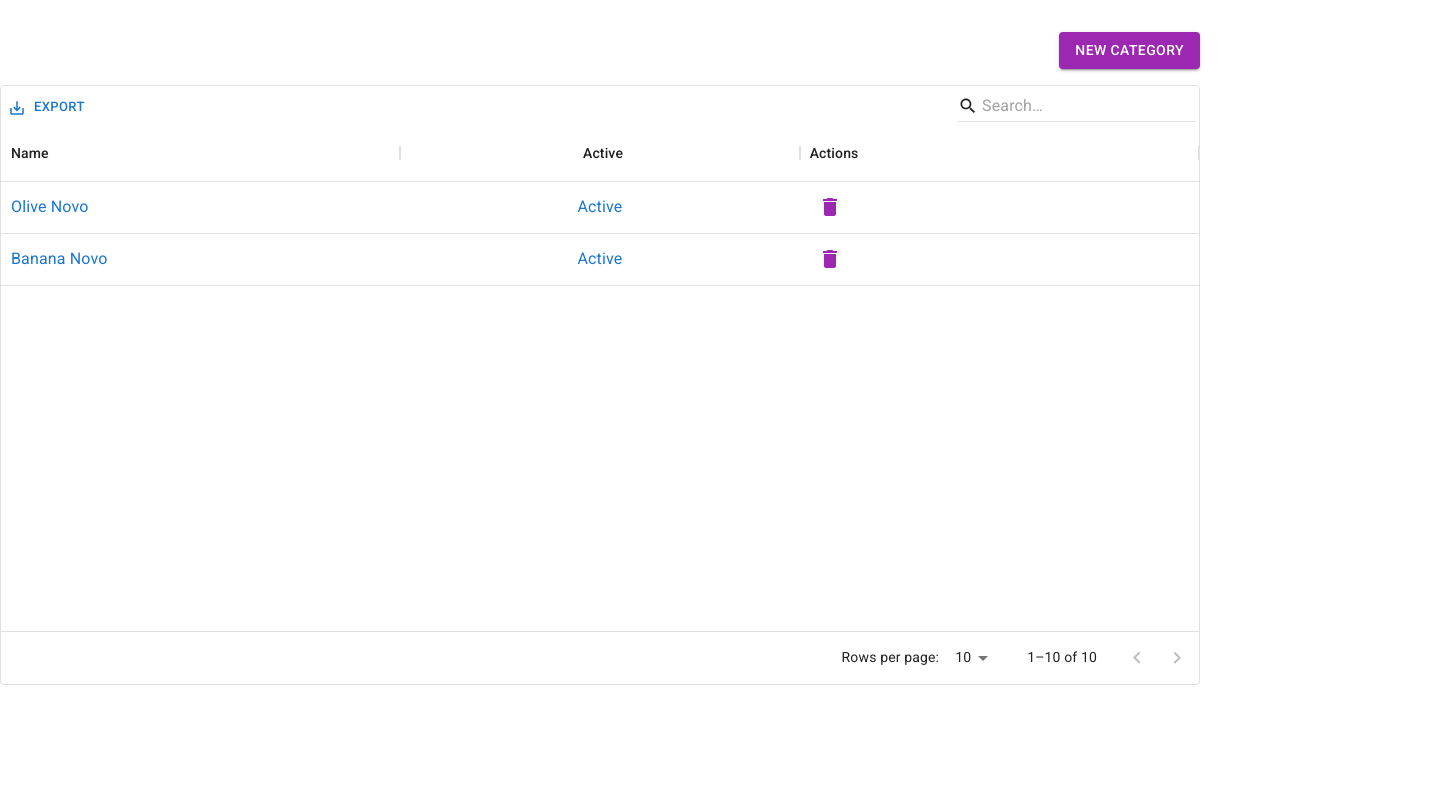
Scenario: ListCategory › should be delete category
Click the button with test id "delete-button" in the row of "Olive Novo": (830, 207) [810,187,850,227]
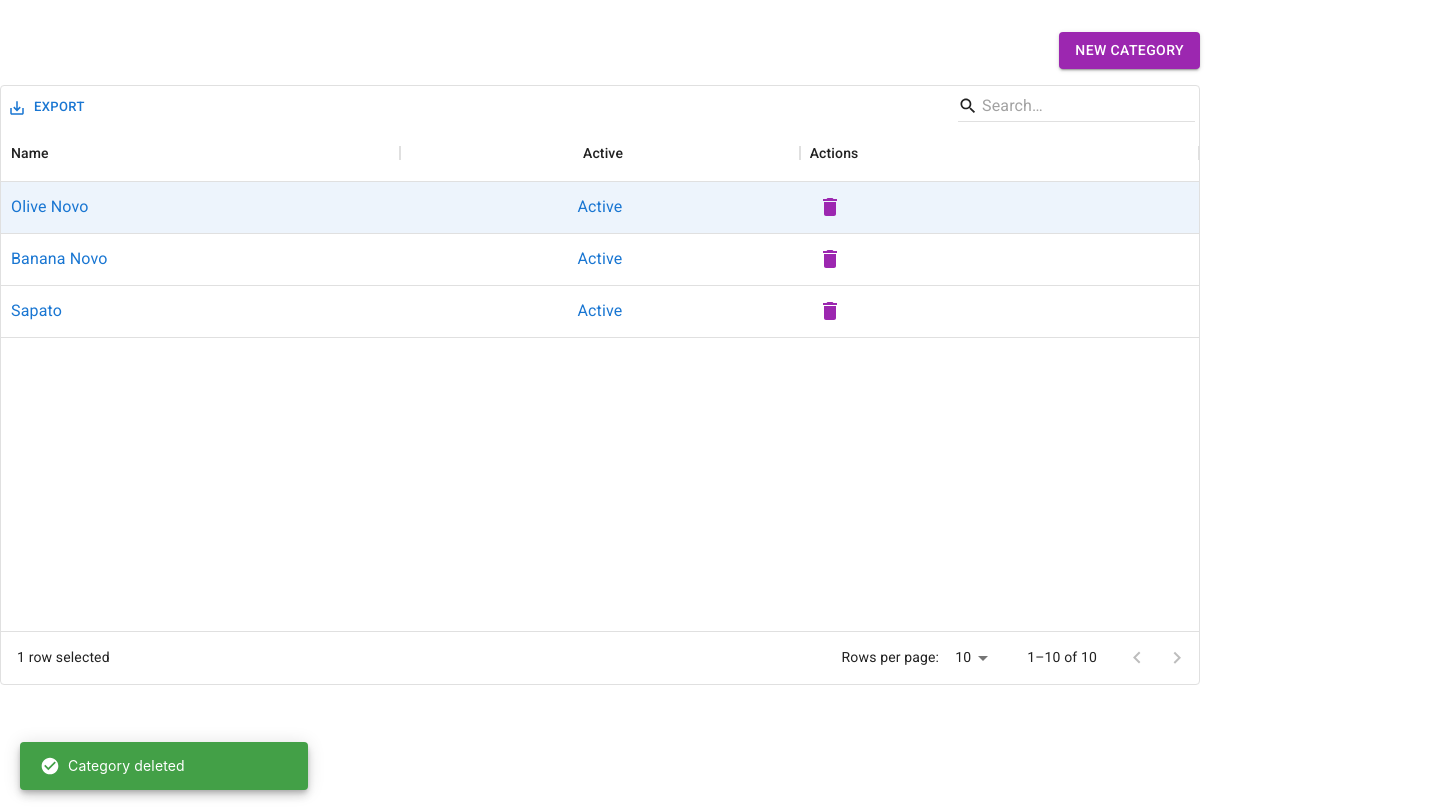
Expected: the text "Category deleted" is shown, [40,756,185,776]
